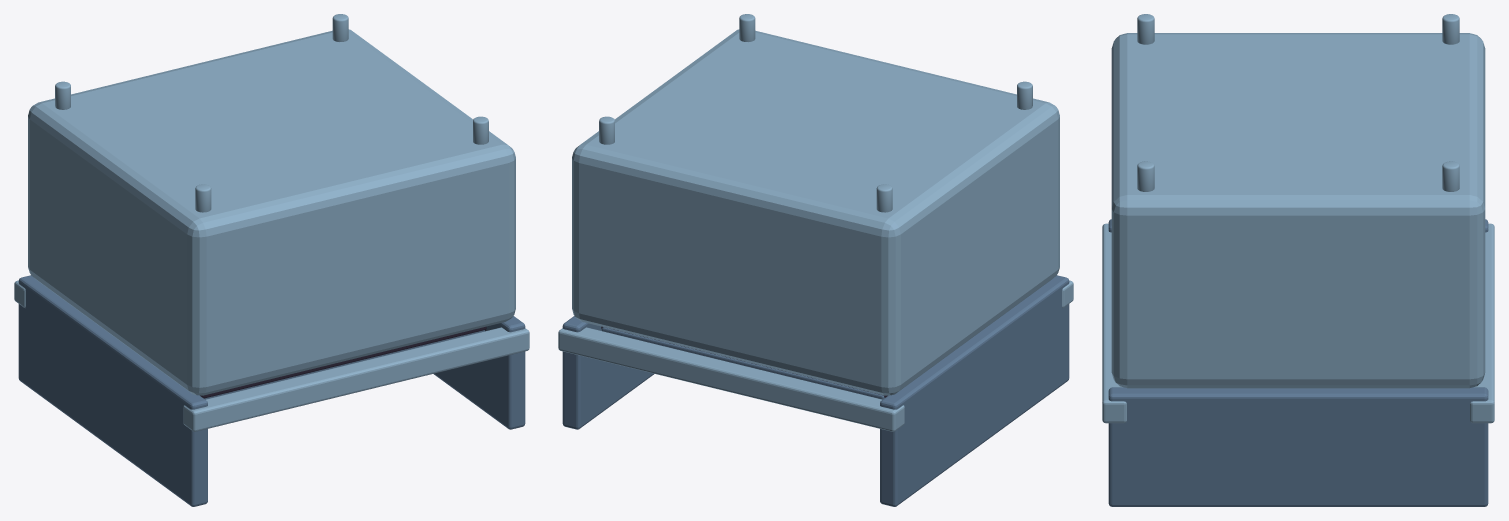
Rendered from vent_socket.glb.
3 renders of one model, left to right at view 1: azimuth 30°, elevation 25°; view 2: azimuth 150°, elevation 25°; view 3: azimuth 270°, elevation 25°, orthographic. The views are drawn at different scales.
Parts seen in each view (by area): view 1: Upper_box, Filter_slide_rail, Grille_frame.001, Filter_slide_rail.001, Dark_open_socket, Grille_louvre.009; view 2: Upper_box, Filter_slide_rail, Grille_frame, Filter_slide_rail.001, Grille_louvre; view 3: Upper_box, Filter_slide_rail.001, Grille_frame, Grille_frame.001, Ceiling_bolt, Ceiling_bolt.001, Ceiling_bolt.002, Ceiling_bolt.003.
Part boxes in pixels (x1,y1,x2,y2): Upper_box: (28,29,515,395); Filter_slide_rail: (18,275,207,506); Grille_frame.001: (183,327,529,431); Filter_slide_rail.001: (433,316,525,429); Dark_open_socket: (200,326,486,398); Grille_louvre.009: (204,330,484,399); Upper_box: (572,29,1059,395); Filter_slide_rail: (880,275,1069,506); Grille_frame: (558,327,904,431); Filter_slide_rail.001: (562,316,654,429); Grille_louvre: (602,327,884,399); Upper_box: (1111,33,1485,388); Filter_slide_rail.001: (1108,387,1488,506); Grille_frame: (1470,223,1494,423); Grille_frame.001: (1102,223,1126,423); Ceiling_bolt: (1442,14,1459,44); Ceiling_bolt.001: (1137,14,1154,44); Ceiling_bolt.002: (1442,161,1459,191); Ceiling_bolt.003: (1137,161,1154,191).
Size of the model in its own units: 0.68 by 0.5825 by 0.63.
